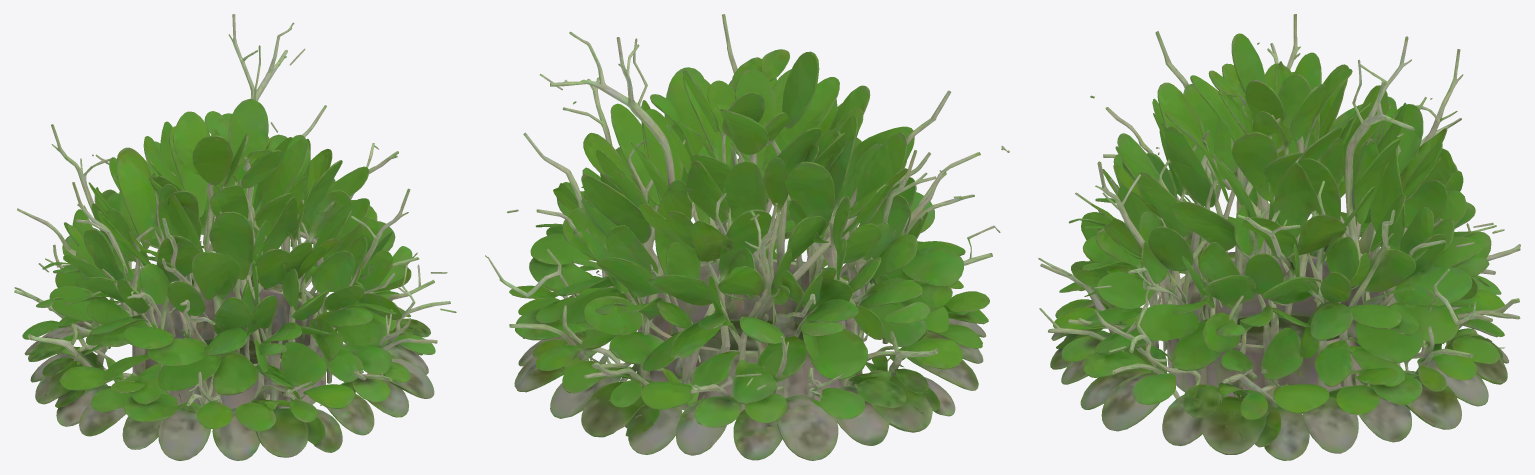
Rendered from bush.glb.
The picture shows the model from 3 angles, left to right: view 1: azimuth 30°, elevation 25°; view 2: azimuth 150°, elevation 25°; view 3: azimuth 270°, elevation 25°; orthographic projection. The views are drawn at different scales.
Visible parts, largest first — view 1: geometry_0; view 2: geometry_0; view 3: geometry_0.
Boxes of the visible parts, x1,y1,x2,y2 form: geometry_0: [14, 14, 456, 460]; geometry_0: [485, 14, 1009, 460]; geometry_0: [1038, 14, 1520, 460].
Bounding box in the file's own units: 1 × 0.8339 × 0.9992.
1 material, 1 textured.
